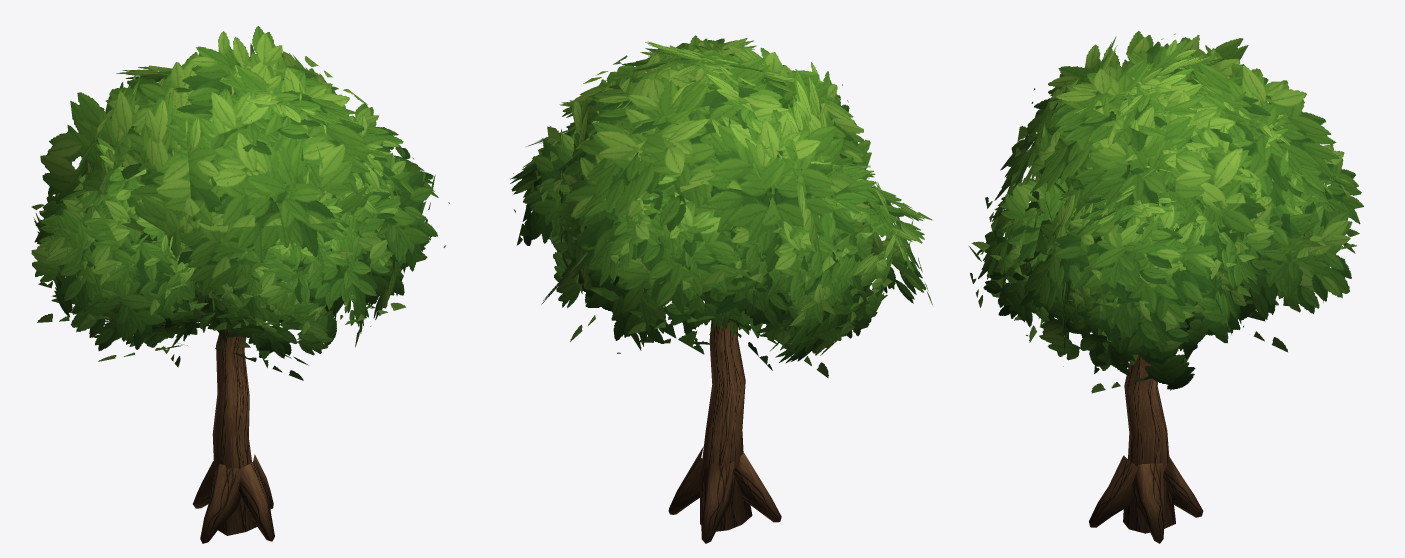
Rendered from tree_green_a.glb.
3 views of the same model, side by side, from view 1: azimuth 30°, elevation 25°; view 2: azimuth 150°, elevation 25°; view 3: azimuth 270°, elevation 25° (orthographic). The views are drawn at different scales.
Parts seen in each view (by area): view 1: tree_green_a; view 2: tree_green_a; view 3: tree_green_a.
Part boxes in pixels (box(x1,y1,x2,y2)): tree_green_a: box(31, 26, 449, 543); tree_green_a: box(510, 35, 932, 543); tree_green_a: box(969, 31, 1363, 543).
Bounding box in the file's own units: 4.19 × 4.76 × 3.69.
2 materials, 2 textured.
